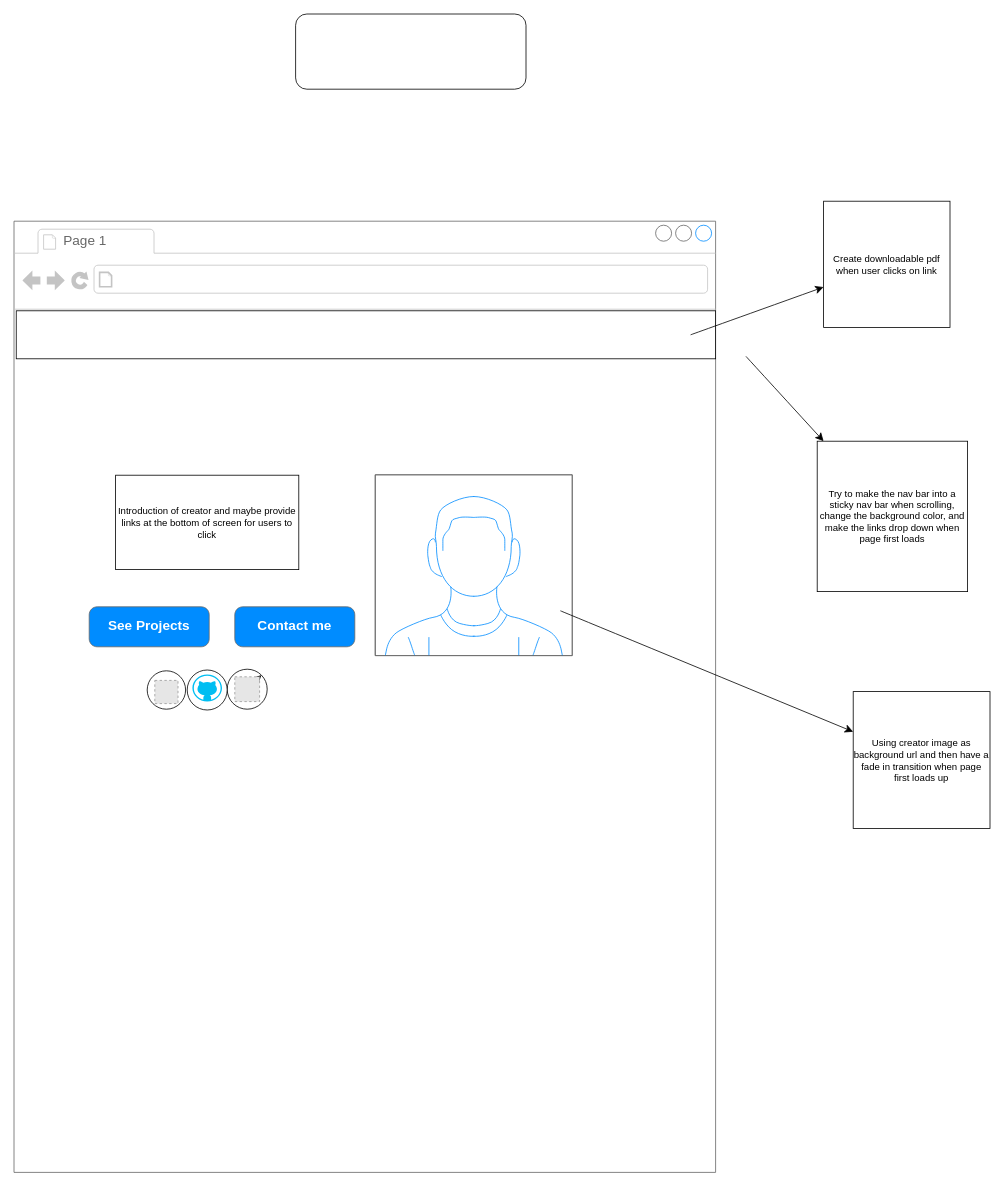
Image size: 1004x1186. Some labels were removed from this diagram. Grey dashed boxes stand in for pictures. Each missing label, with the centre of its shape:
About Projects Skills Contact Resume: the point at 365,334
https://www.draw.io: the point at 217,279
PortFolio Home: the point at 410,51
